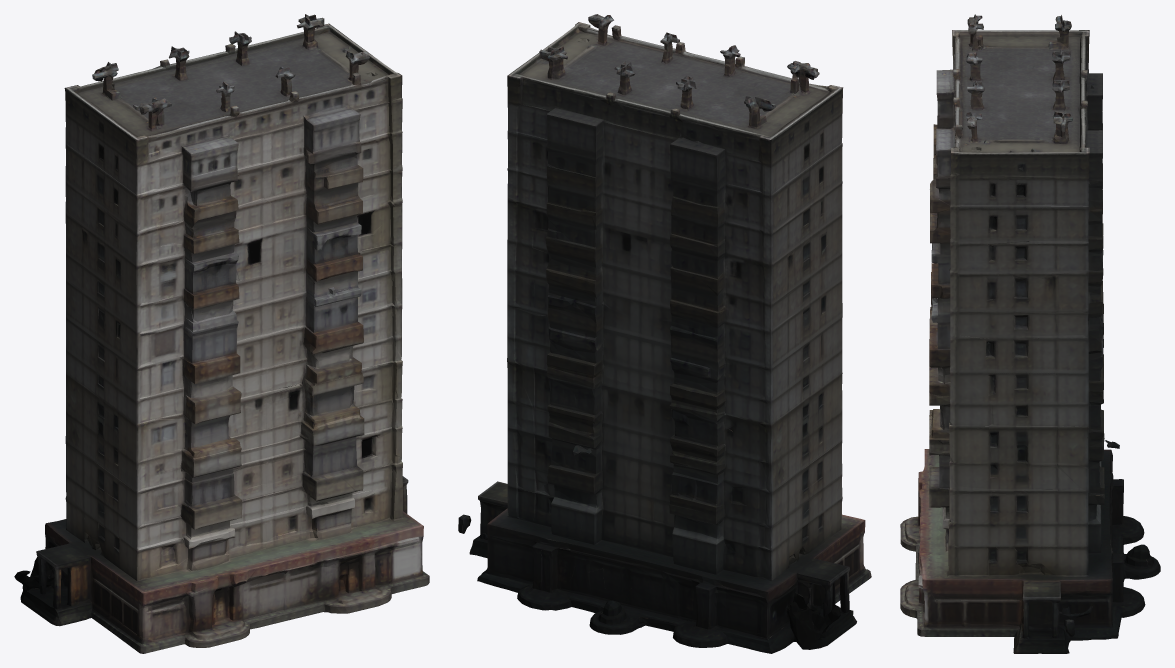
The model's file is SSSR_House_5.fbx.
The picture shows the model from 3 angles, left to right: view 1: azimuth 30°, elevation 25°; view 2: azimuth 150°, elevation 25°; view 3: azimuth 270°, elevation 25°; orthographic projection. The views are drawn at different scales.
Visible parts, largest first — view 1: world.005; view 2: world.005; view 3: world.005.
Part boxes in pixels (box(x1,y1,x2,y2)): world.005: box(14, 14, 429, 653); world.005: box(458, 14, 871, 653); world.005: box(900, 14, 1160, 653).
Size of the model in its own units: 75.21 by 99.22 by 46.62.
